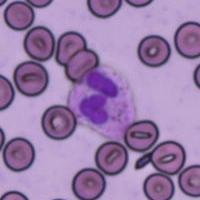N: (66, 65, 136, 140)
